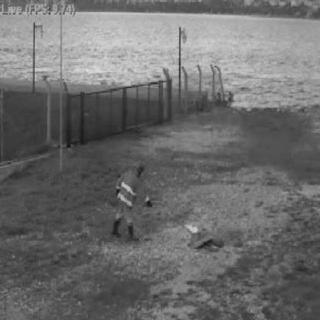Fire: (160, 197, 217, 247)
